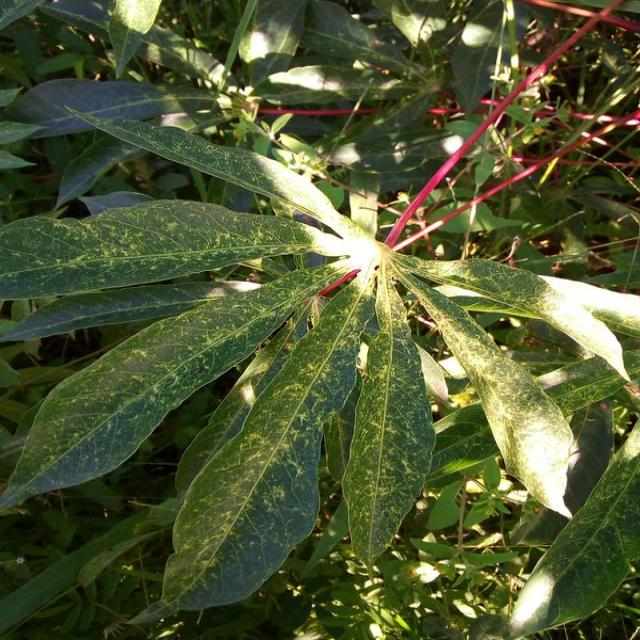cassava leaf: (1, 4, 638, 634), (0, 261, 356, 513), (159, 271, 376, 613), (0, 196, 350, 300), (339, 273, 436, 569)
